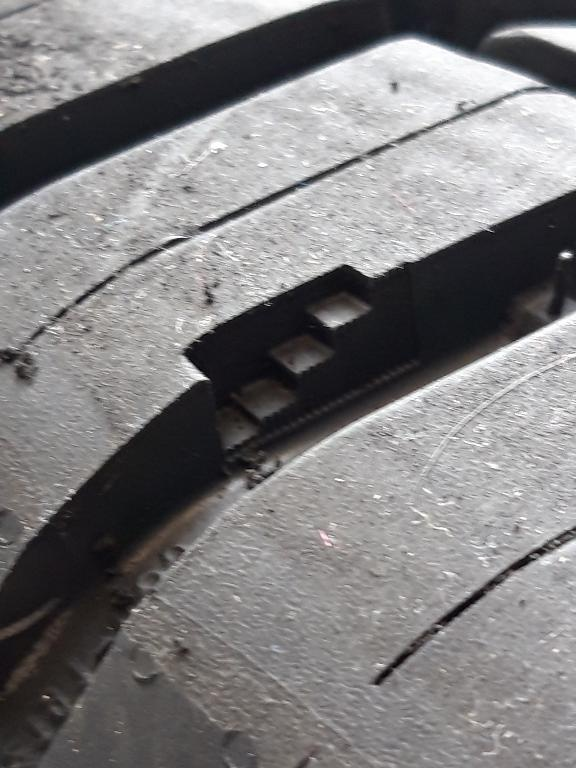temoin:95: (170, 244, 425, 486)
